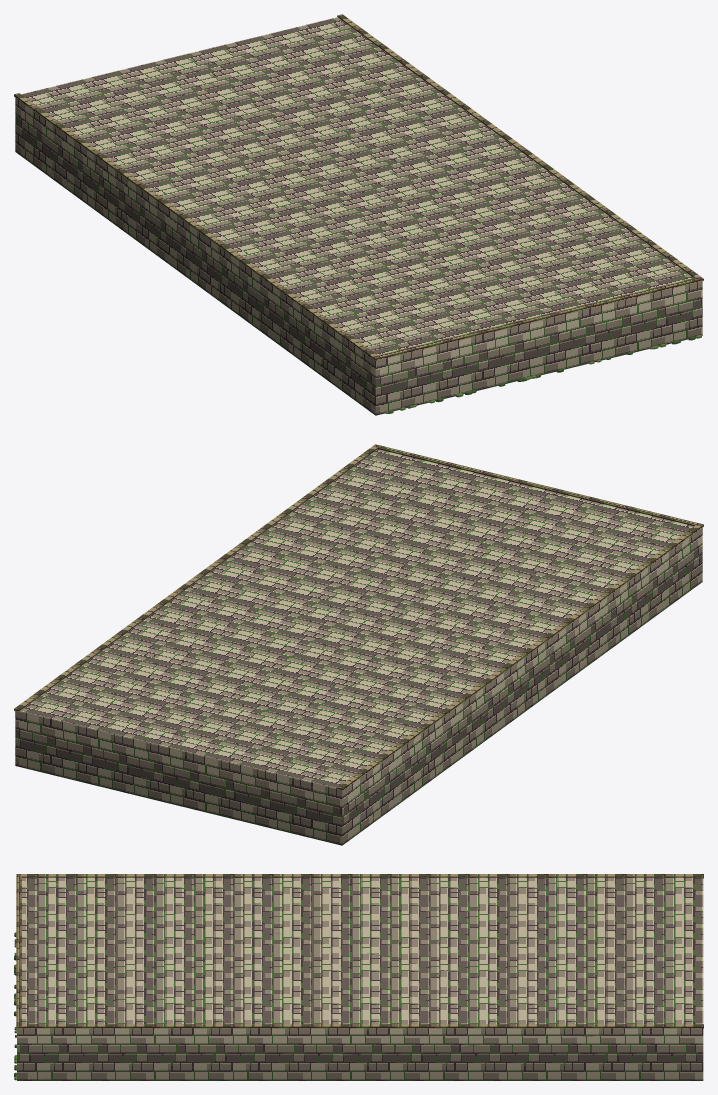
File: scene_wall_w8.glb
3 renders of one model, top to bottom at view 1: azimuth 30°, elevation 25°; view 2: azimuth 150°, elevation 25°; view 3: azimuth 270°, elevation 25°, orthographic. The views are drawn at different scales.
Parts seen in each view (by area): view 1: scene_wall_w8; view 2: scene_wall_w8; view 3: scene_wall_w8.
Part boxes in pixels (x1,y1,x2,y2): scene_wall_w8: (14,14,703,415); scene_wall_w8: (14,444,703,845); scene_wall_w8: (14,874,703,1080).
Size of the model in its own units: 22.1 by 3.77 by 42.24.
Materials: 2 (1 with a texture image).
